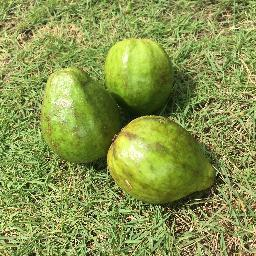Good_guava: (102, 112, 225, 210), (40, 64, 118, 171), (105, 28, 174, 111)
